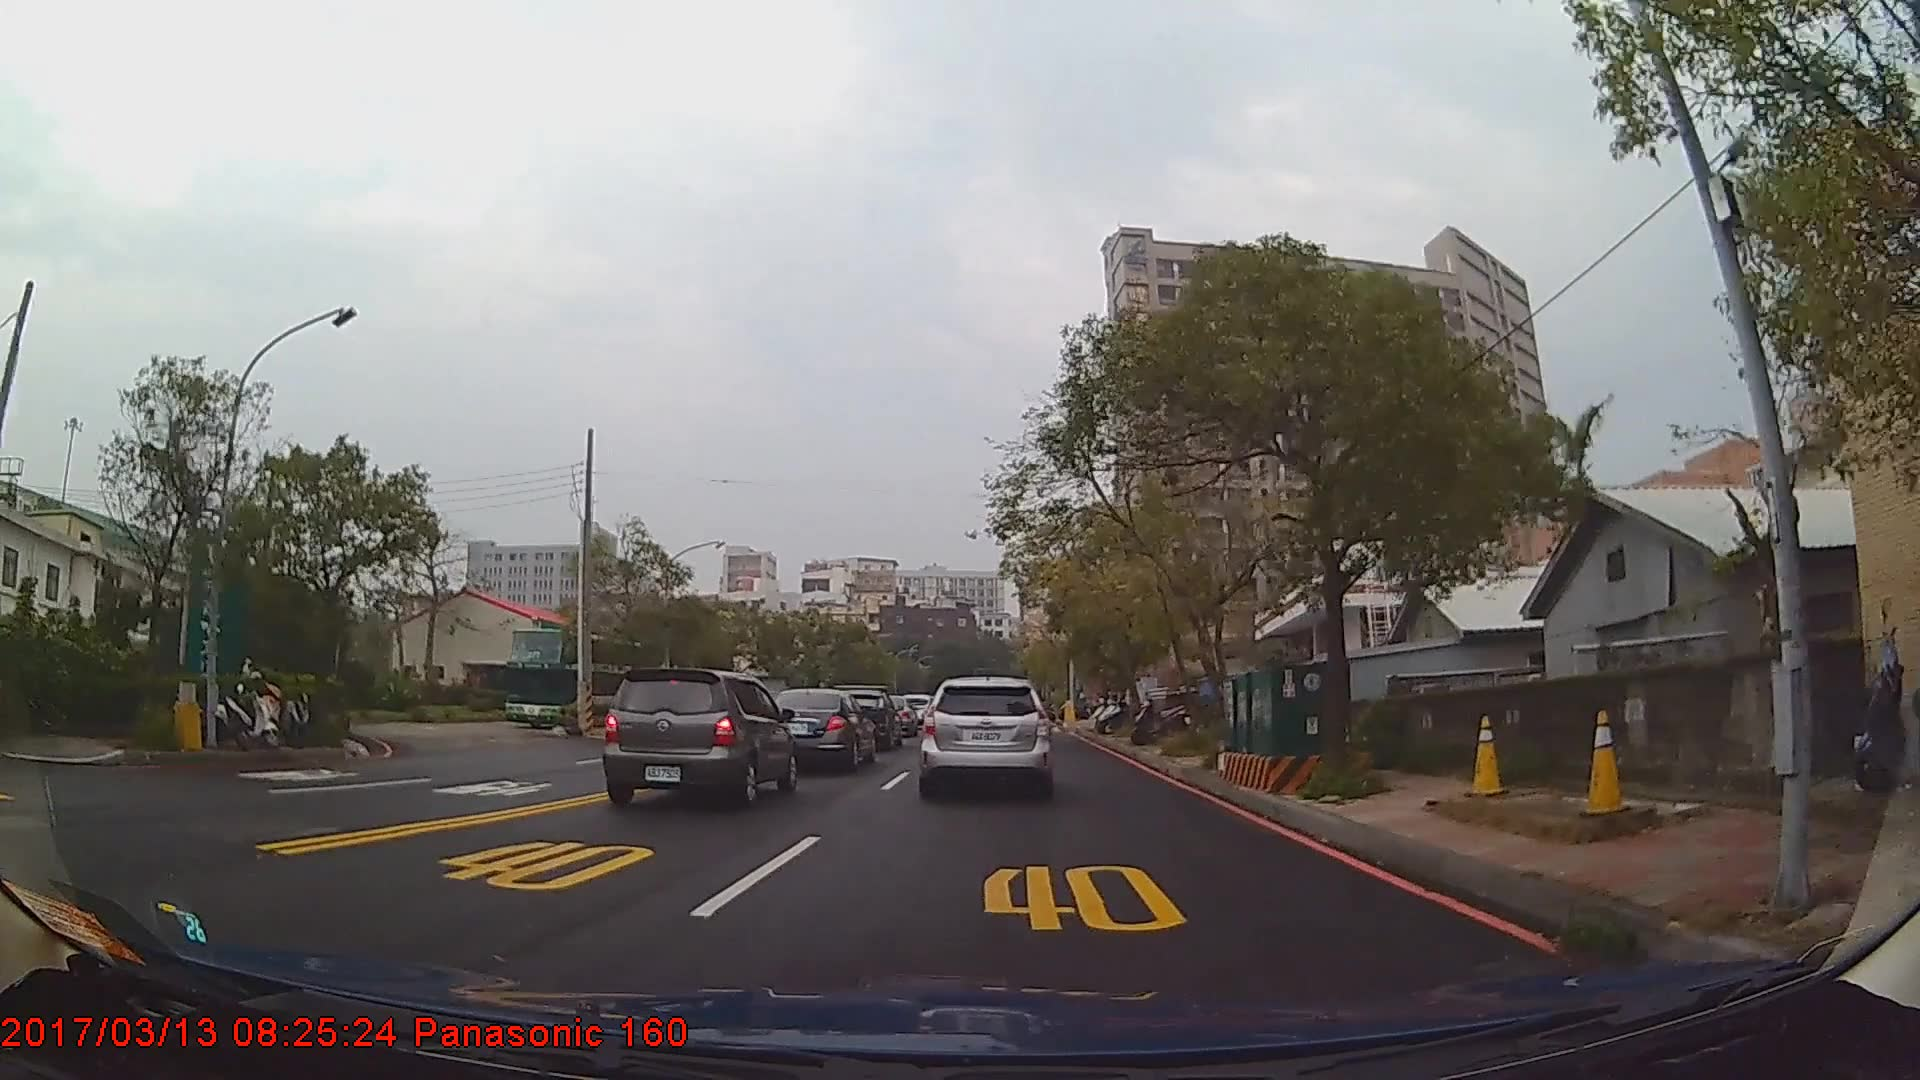vehicle: (599, 666, 795, 808), (502, 626, 669, 735), (918, 675, 1052, 795), (758, 686, 876, 775)
